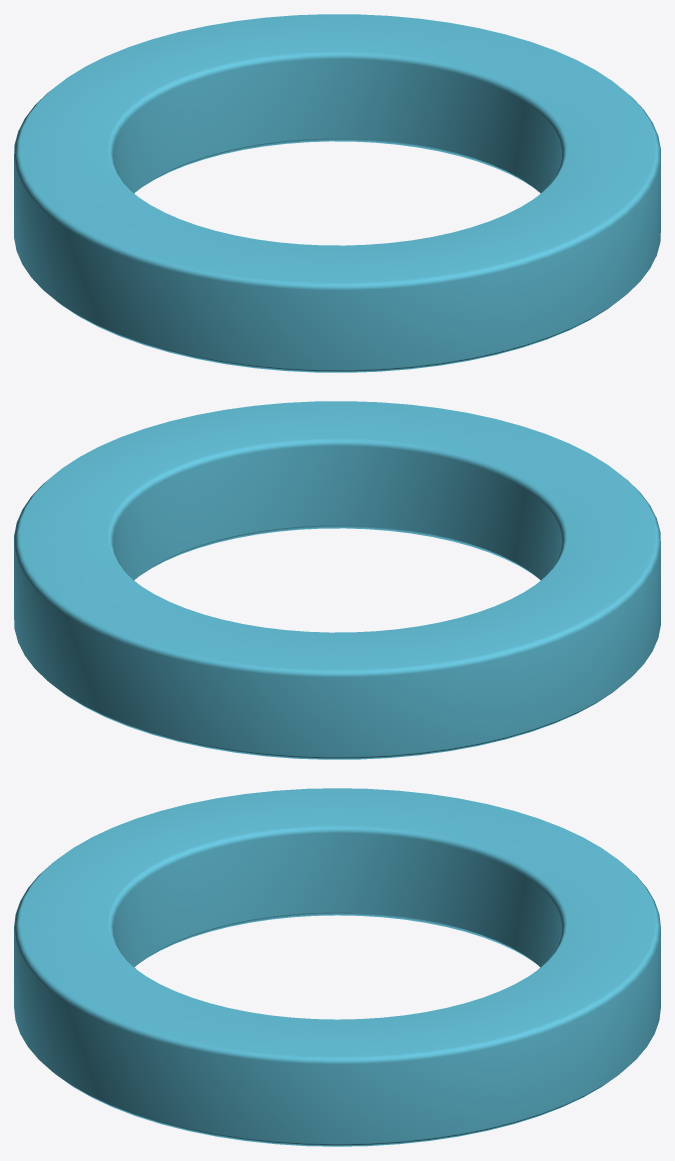
The picture shows the model from 3 angles, top to bottom: view 1: azimuth 30°, elevation 25°; view 2: azimuth 150°, elevation 25°; view 3: azimuth 270°, elevation 25°; orthographic projection.
Visible parts, largest first — view 1: seal_body; view 2: seal_body; view 3: seal_body.
Boxes of the visible parts, x1,y1,x2,y2 form: seal_body: [14, 14, 660, 372]; seal_body: [14, 401, 660, 759]; seal_body: [14, 788, 660, 1146].
Bounding box in the file's own units: 0.0413 × 0.00635 × 0.0413.
